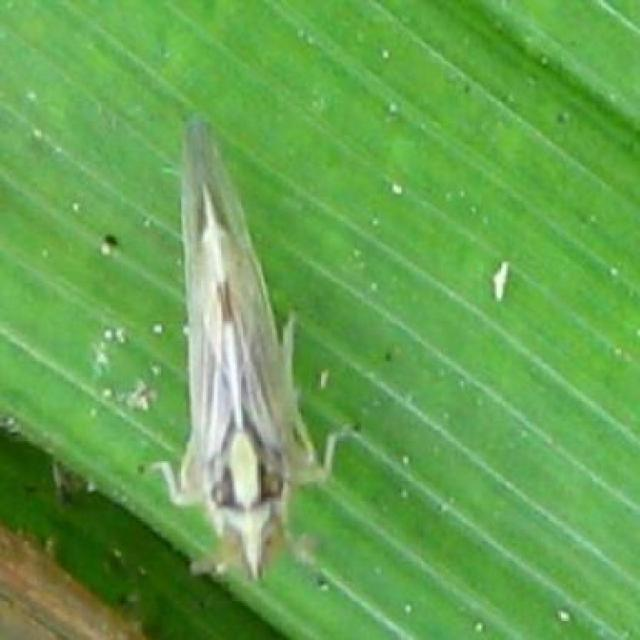brown-planthopper: (158, 116, 345, 573)
